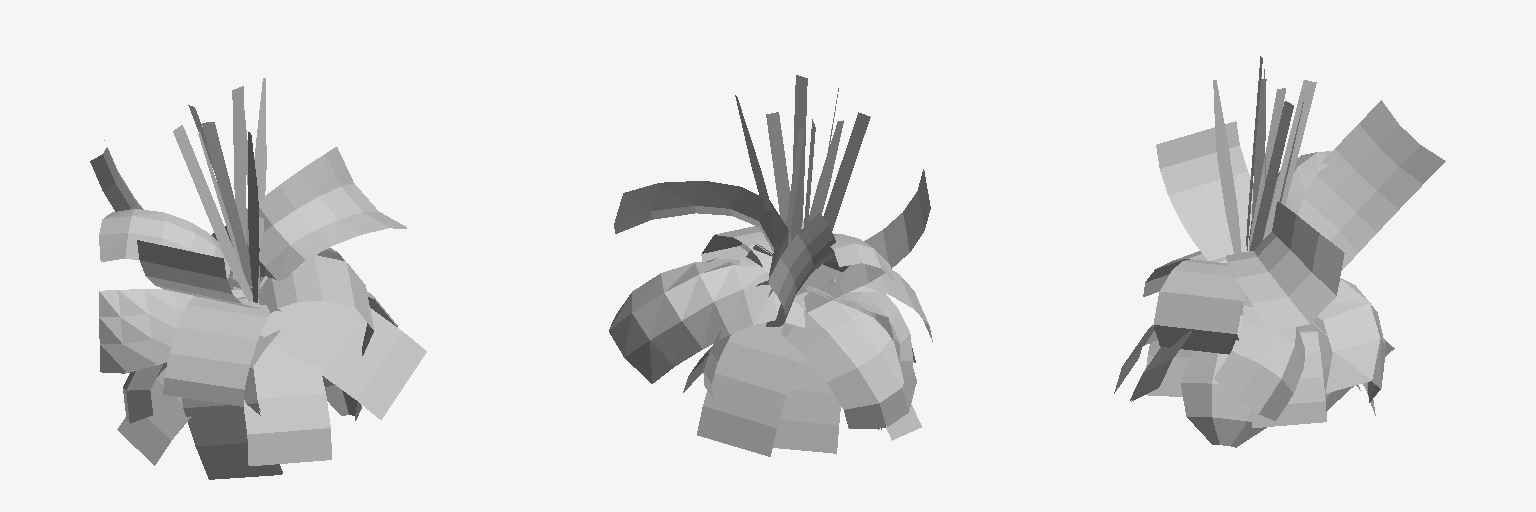
Rendered from bushes04_04.obj.
3 views of the same model, side by side, from view 1: azimuth 30°, elevation 25°; view 2: azimuth 150°, elevation 25°; view 3: azimuth 270°, elevation 25° (orthographic).
Visible parts, largest first — view 1: bushes04_04; view 2: bushes04_04; view 3: bushes04_04.
Boxes of the visible parts, x1=… form: bushes04_04: x1=90, y1=78, x2=426, y2=479; bushes04_04: x1=609, y1=75, x2=932, y2=456; bushes04_04: x1=1114, y1=56, x2=1445, y2=447.
Size of the model in its own units: 359 by 423 by 353.